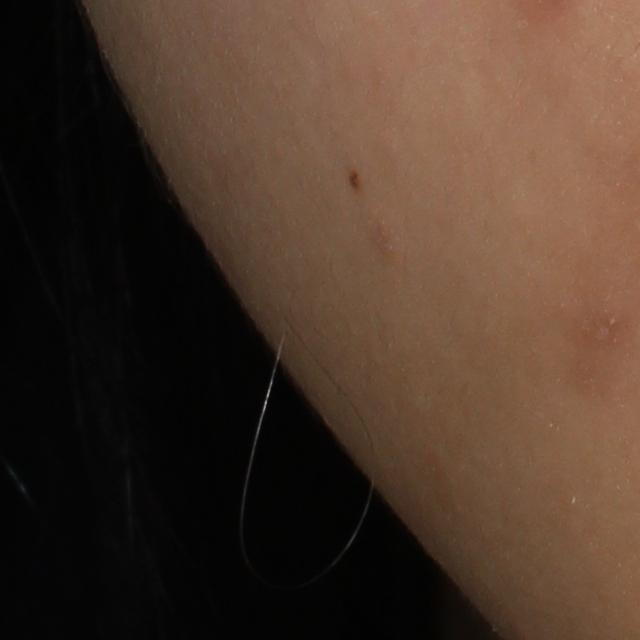nevus: (342, 164, 365, 192)
